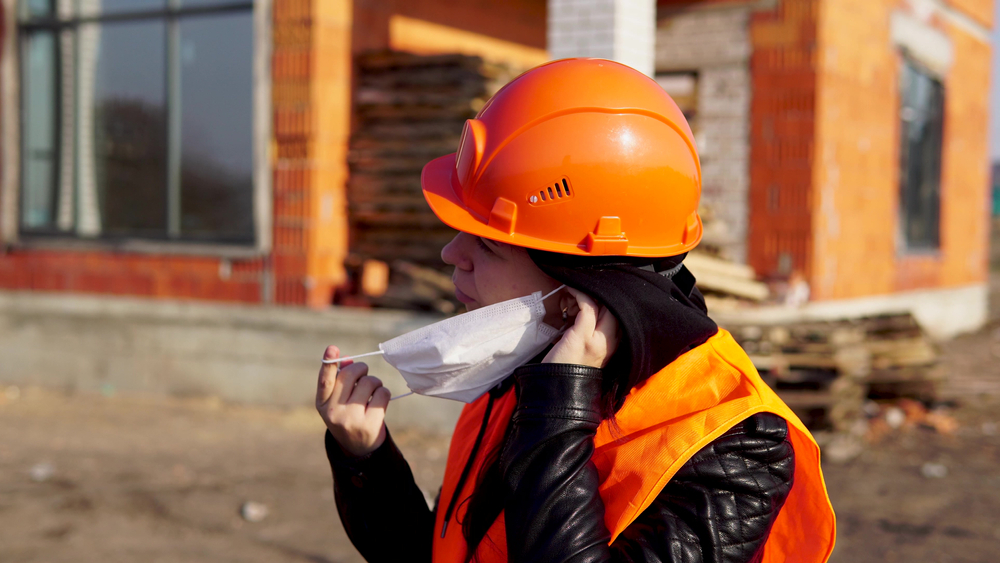Helmet: (414, 51, 721, 259)
Mask: (355, 282, 567, 414)
Safety_Jacket: (419, 313, 841, 563)
